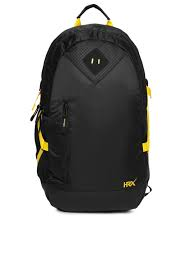backpack: (30, 3, 152, 212)
